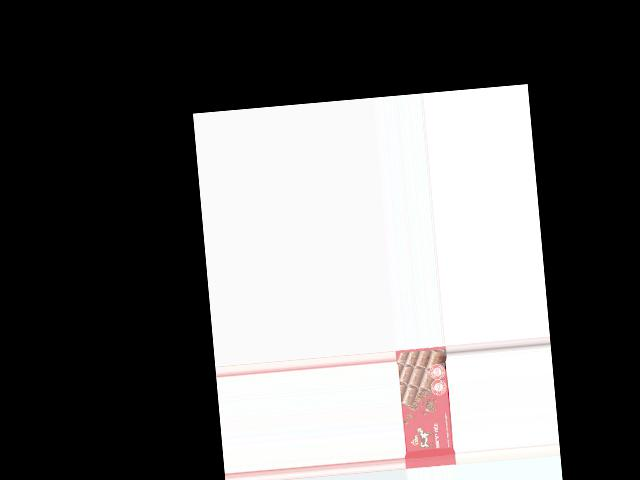chocolate: (396, 347, 456, 469)
